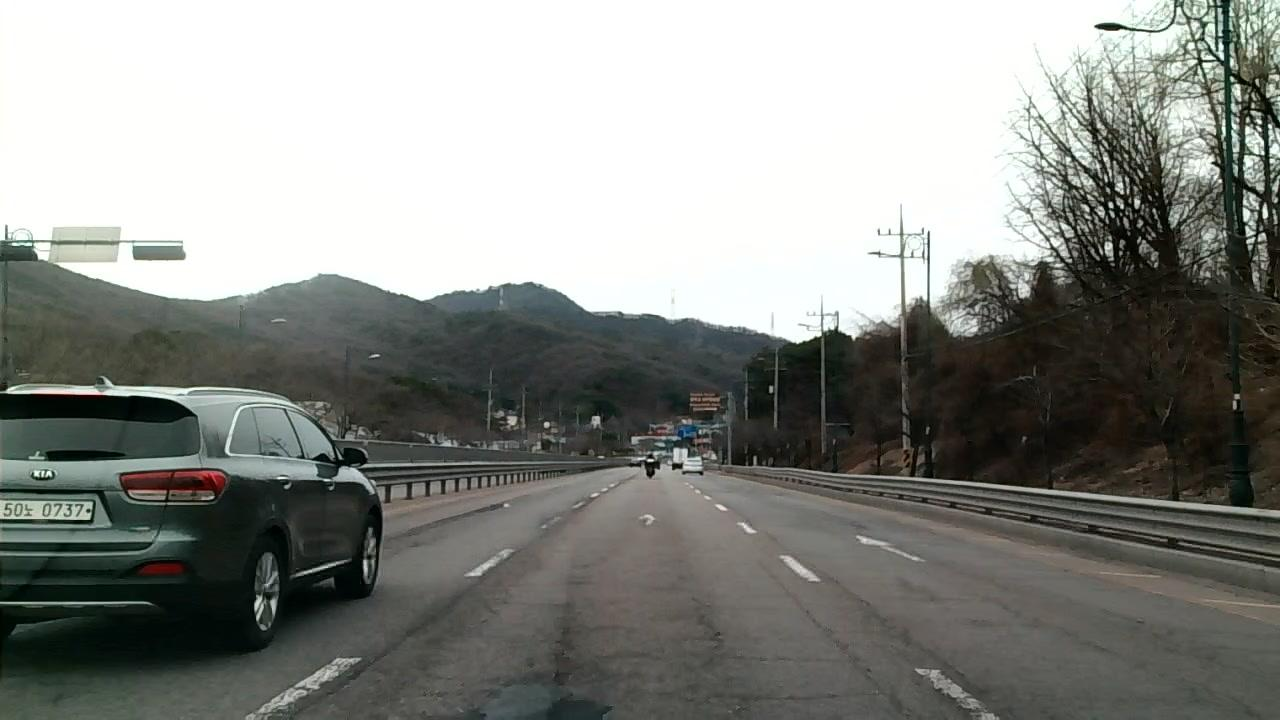erosion: (530, 563, 619, 720), (680, 581, 754, 720), (404, 499, 511, 536)
hcrack: (732, 686, 890, 712), (734, 652, 851, 671)
vcrack: (267, 645, 384, 720), (902, 631, 994, 704), (992, 596, 1109, 650), (386, 586, 468, 652), (830, 575, 894, 632)
